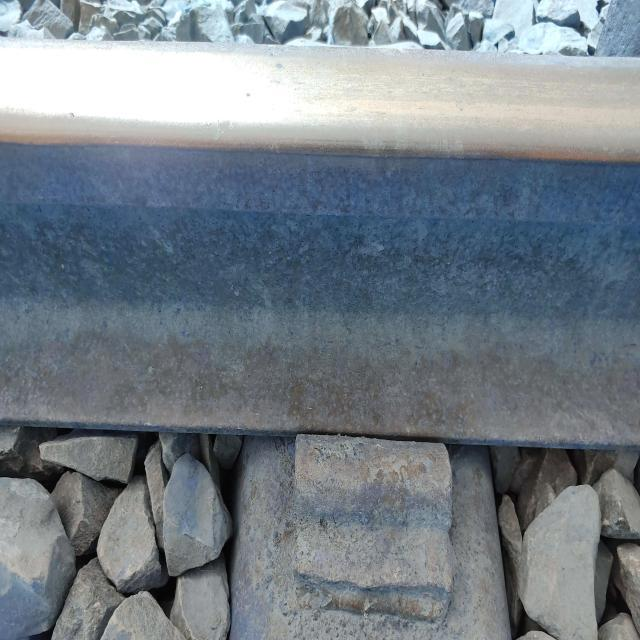Missing Fastener: (231, 431, 509, 640)
